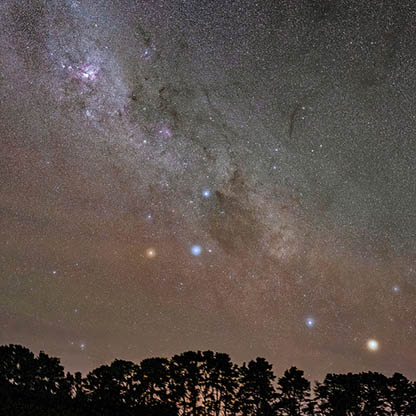Southern Cross: (142, 241, 159, 261), (186, 240, 203, 258), (144, 209, 157, 230), (197, 186, 213, 203)
